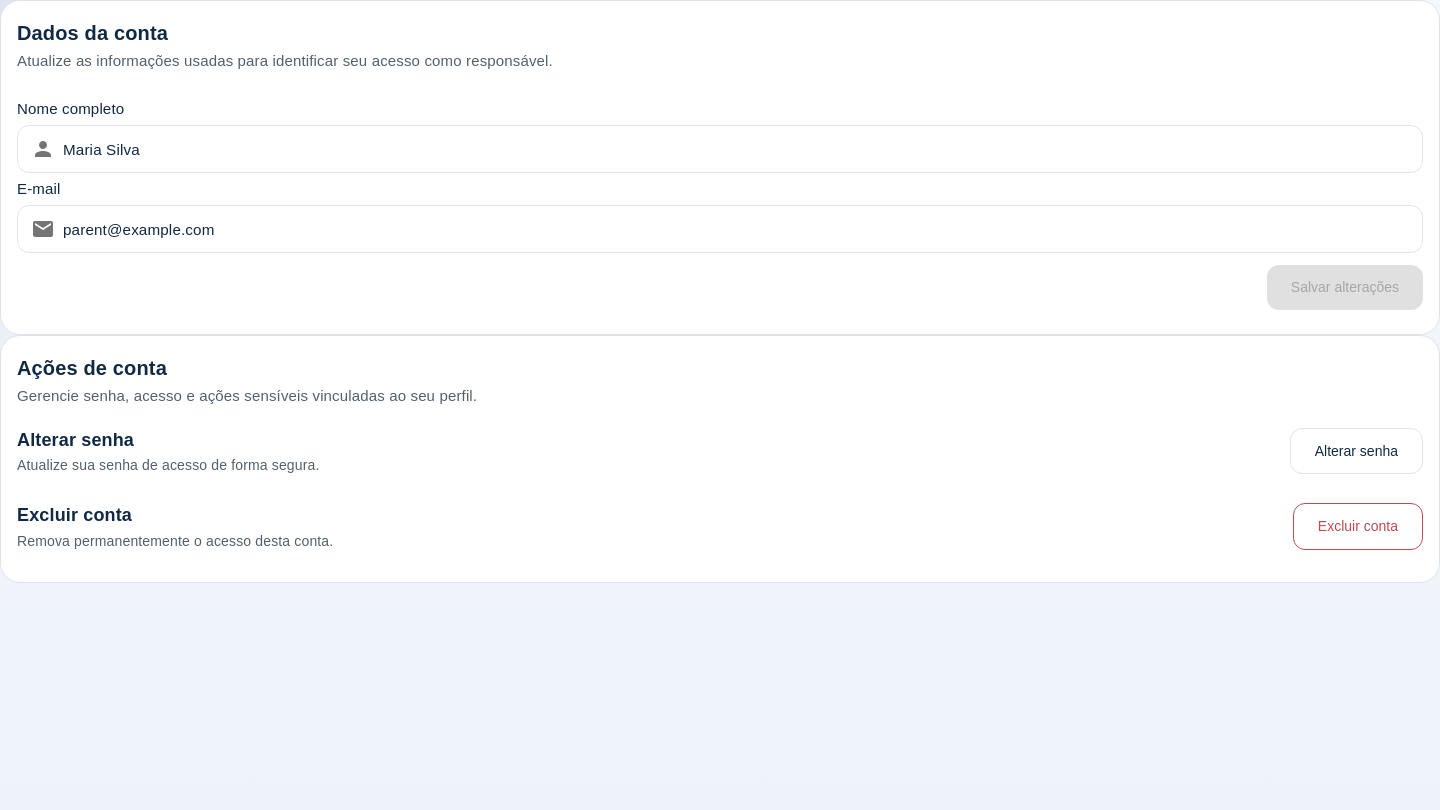
Test: AccountSettings opens delete confirmation modal
Click the button "Excluir conta" at x=1358, y=526, box [1293,503,1423,550]
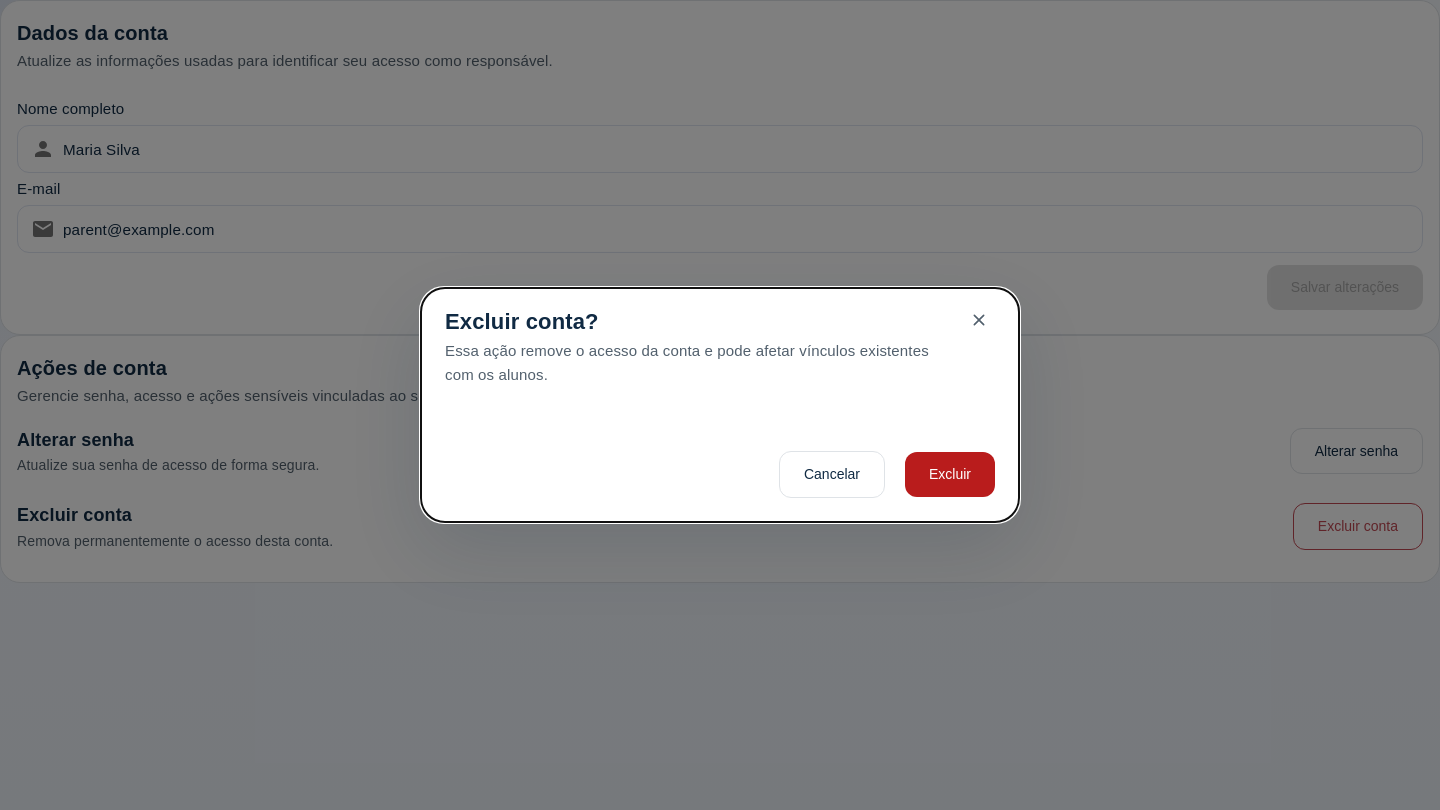
expect the text "Excluir conta?" is shown: met, box [445,309,599,334]
